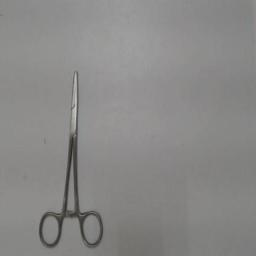Mayo Needle Holder: (36, 60, 110, 252)
